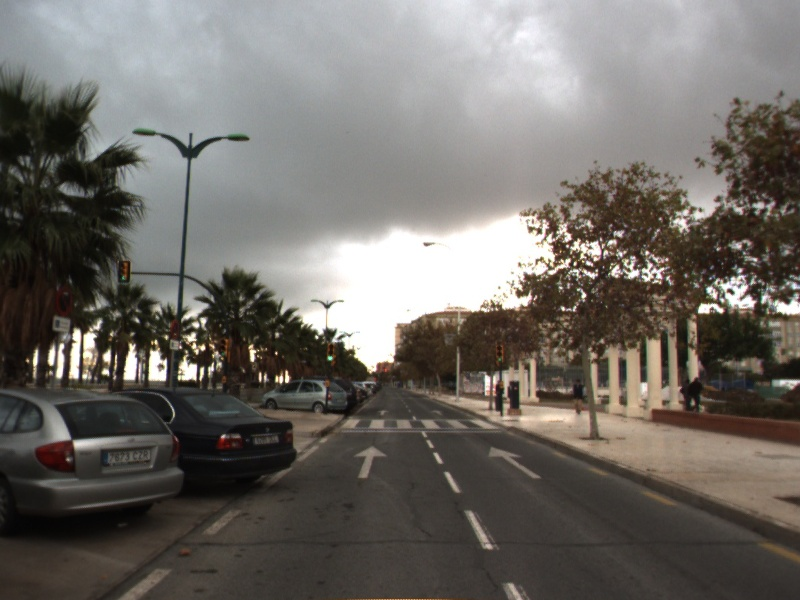STRAIGHT: (487, 445, 544, 480), (352, 444, 391, 480)
